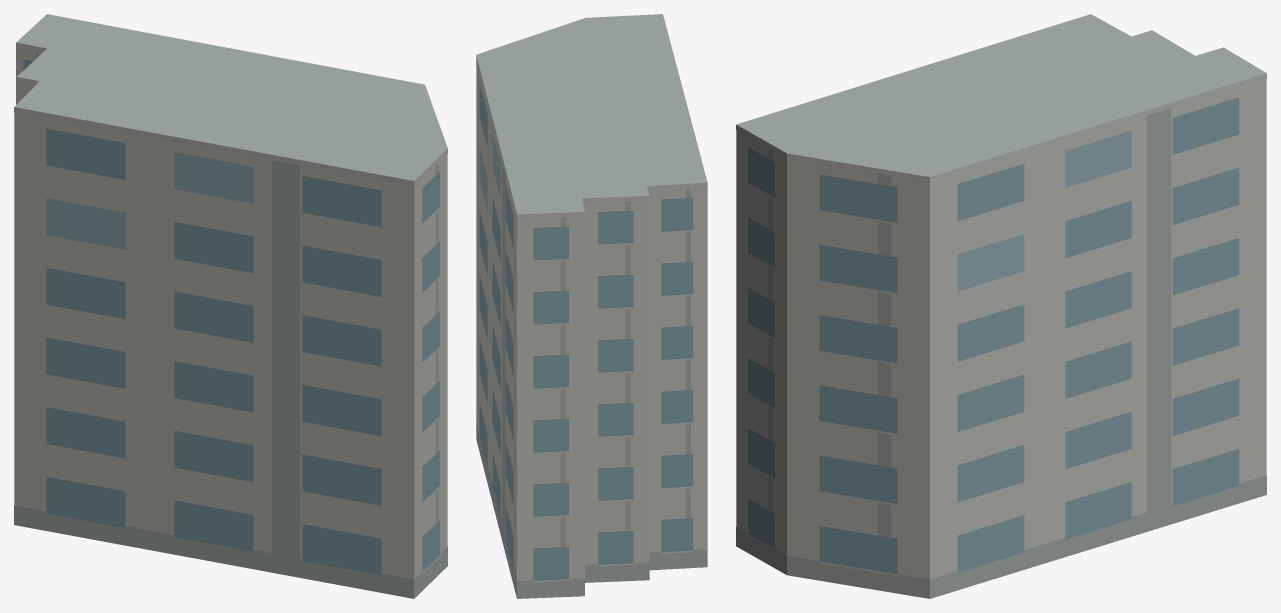
Rendered from survey-upis-32509115.glb.
3 renders of one model, left to right at view 1: azimuth 30°, elevation 25°; view 2: azimuth 150°, elevation 25°; view 3: azimuth 270°, elevation 25°, orthographic. The views are drawn at different scales.
Parts seen in each view (by area): view 1: survey-upis-32509115.tmp; view 2: survey-upis-32509115.tmp; view 3: survey-upis-32509115.tmp.
Boxes of the visible parts, box(x1,y1,x2,y2) form: survey-upis-32509115.tmp: box(14, 14, 447, 598); survey-upis-32509115.tmp: box(476, 14, 707, 598); survey-upis-32509115.tmp: box(736, 14, 1266, 598).
Bounding box in the file's own units: 15.19 × 18.3 × 20.88.
